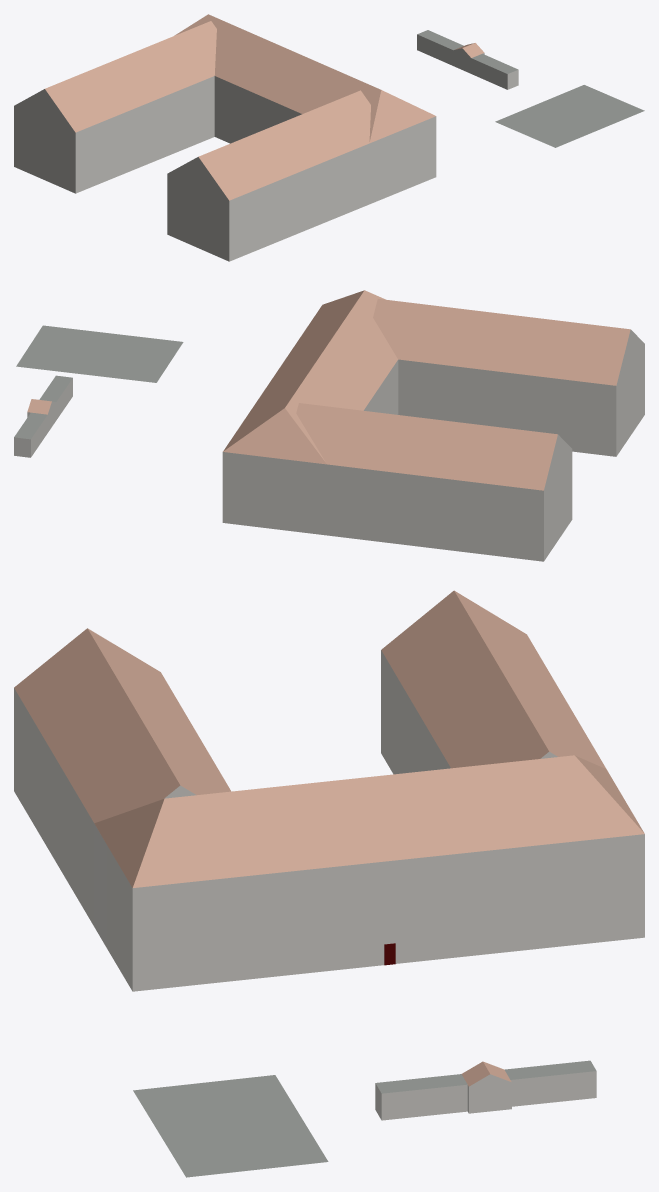
Rendered from gridID_79.dae.
3 views of the same model, one above another, from view 1: azimuth 30°, elevation 25°; view 2: azimuth 150°, elevation 25°; view 3: azimuth 270°, elevation 25° (orthographic). The views are drawn at different scales.
Visible parts, largest first — view 1: model_gridID_79_w116940042_001, model_gridID_79_w377649446_001, model_gridID_79_w377649446, model_gridID_79_w377649447, model_gridID_79_w377649447_001; view 2: model_gridID_79_w116940042_001, model_gridID_79_w377649446_001, model_gridID_79_w377649447, model_gridID_79_w377649446, model_gridID_79_w377649447_001; view 3: model_gridID_79_w116940042_001, model_gridID_79_w377649446_001, model_gridID_79_w377649446, model_gridID_79_w377649447, model_gridID_79_w377649447_001.
Boxes of the visible parts, x1,y1,x2,y2 form: model_gridID_79_w116940042_001: (14,14,436,261); model_gridID_79_w377649446_001: (495,85,644,147); model_gridID_79_w377649446: (471,53,518,89); model_gridID_79_w377649447: (417,30,463,65); model_gridID_79_w377649447_001: (453,43,484,73); model_gridID_79_w116940042_001: (222,290,644,561); model_gridID_79_w377649446_001: (16,325,183,382); model_gridID_79_w377649447: (14,412,47,457); model_gridID_79_w377649446: (39,375,72,419); model_gridID_79_w377649447_001: (27,399,56,432); model_gridID_79_w116940042_001: (14,590,644,991); model_gridID_79_w377649446_001: (133,1075,328,1177); model_gridID_79_w377649446: (375,1074,467,1120); model_gridID_79_w377649447: (505,1060,596,1106); model_gridID_79_w377649447_001: (461,1061,511,1113).
Bounding box in the file's own units: 91.06 × 55.24 × 15.
